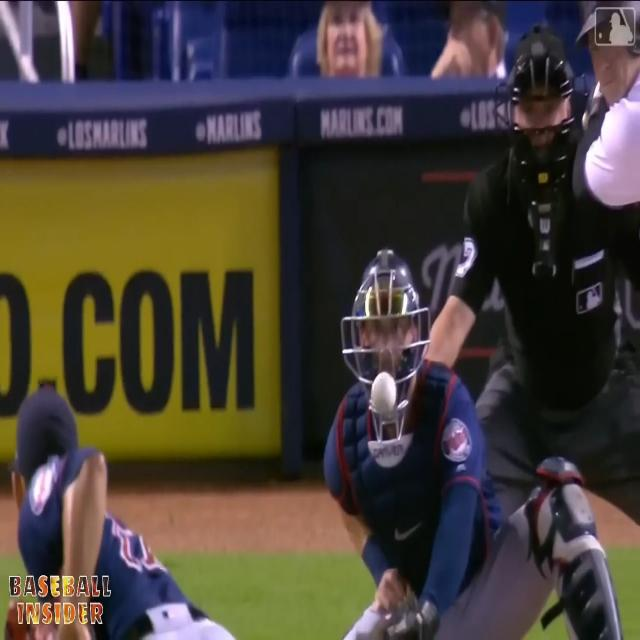baseball: (372, 371, 397, 416)
